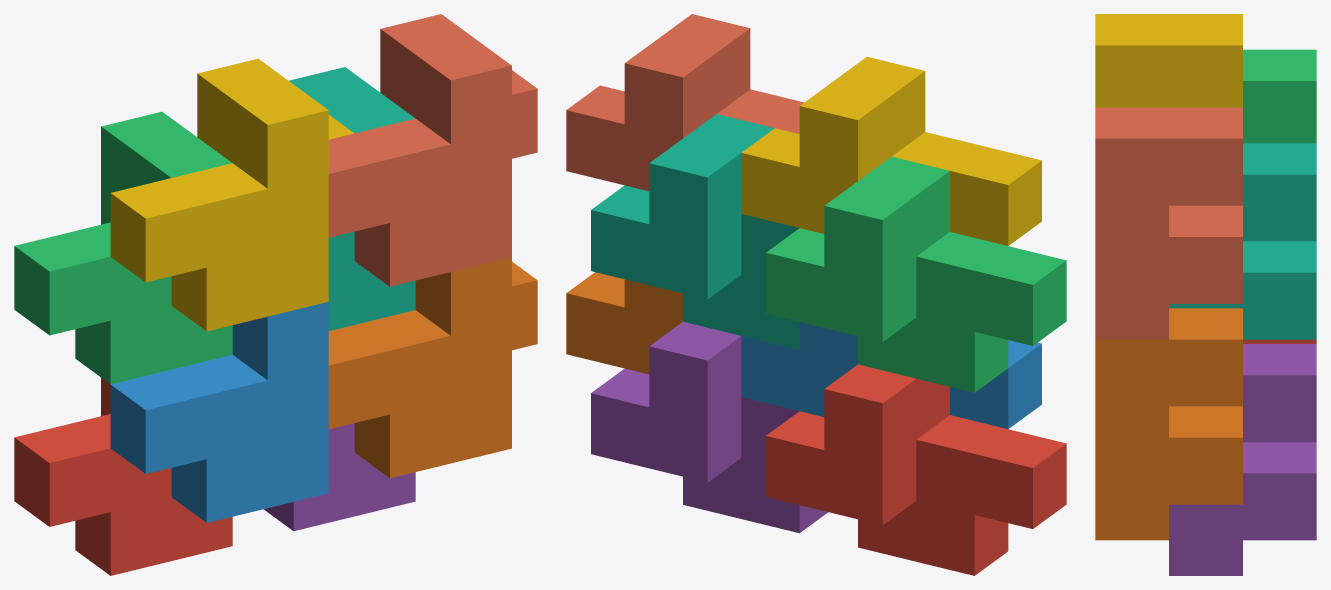
Rendered from tiling.obj.
3 views of the same model, side by side, from view 1: azimuth 30°, elevation 25°; view 2: azimuth 150°, elevation 25°; view 3: azimuth 270°, elevation 25° (orthographic). The views are drawn at different scales.
Parts seen in each view (by area): view 1: copy_1_domain_4, copy_1_domain_8, copy_1_domain_2, copy_1_domain_6, copy_1_domain_3, copy_1_domain_1, copy_1_domain_7, copy_1_domain_5; view 2: copy_1_domain_3, copy_1_domain_1, copy_1_domain_4, copy_1_domain_7, copy_1_domain_5, copy_1_domain_8, copy_1_domain_2, copy_1_domain_6; view 3: copy_1_domain_8, copy_1_domain_6, copy_1_domain_5, copy_1_domain_7, copy_1_domain_4, copy_1_domain_3, copy_1_domain_1.
Boxes of the visible parts, x1,y1,x2,y2 form: copy_1_domain_4: (110,58,354,331); copy_1_domain_8: (328,14,537,286); copy_1_domain_2: (110,302,328,522); copy_1_domain_6: (328,257,537,478); copy_1_domain_3: (14,111,232,384); copy_1_domain_1: (14,377,232,575); copy_1_domain_7: (289,67,415,330); copy_1_domain_5: (263,423,415,531); copy_1_domain_3: (766,156,1066,392); copy_1_domain_1: (766,364,1066,575); copy_1_domain_4: (741,56,1041,245); copy_1_domain_7: (591,114,799,349); copy_1_domain_5: (591,321,828,533); copy_1_domain_8: (566,14,803,191); copy_1_domain_2: (741,322,1041,428); copy_1_domain_6: (566,272,682,374); copy_1_domain_8: (1095,107,1242,339); copy_1_domain_6: (1095,308,1242,540); copy_1_domain_5: (1169,344,1316,575); copy_1_domain_7: (1169,143,1316,339); copy_1_domain_4: (1095,14,1242,107); copy_1_domain_3: (1243,49,1316,143); copy_1_domain_1: (1243,339,1316,343).
Bounding box in the file's own units: 8 × 7 × 3.
